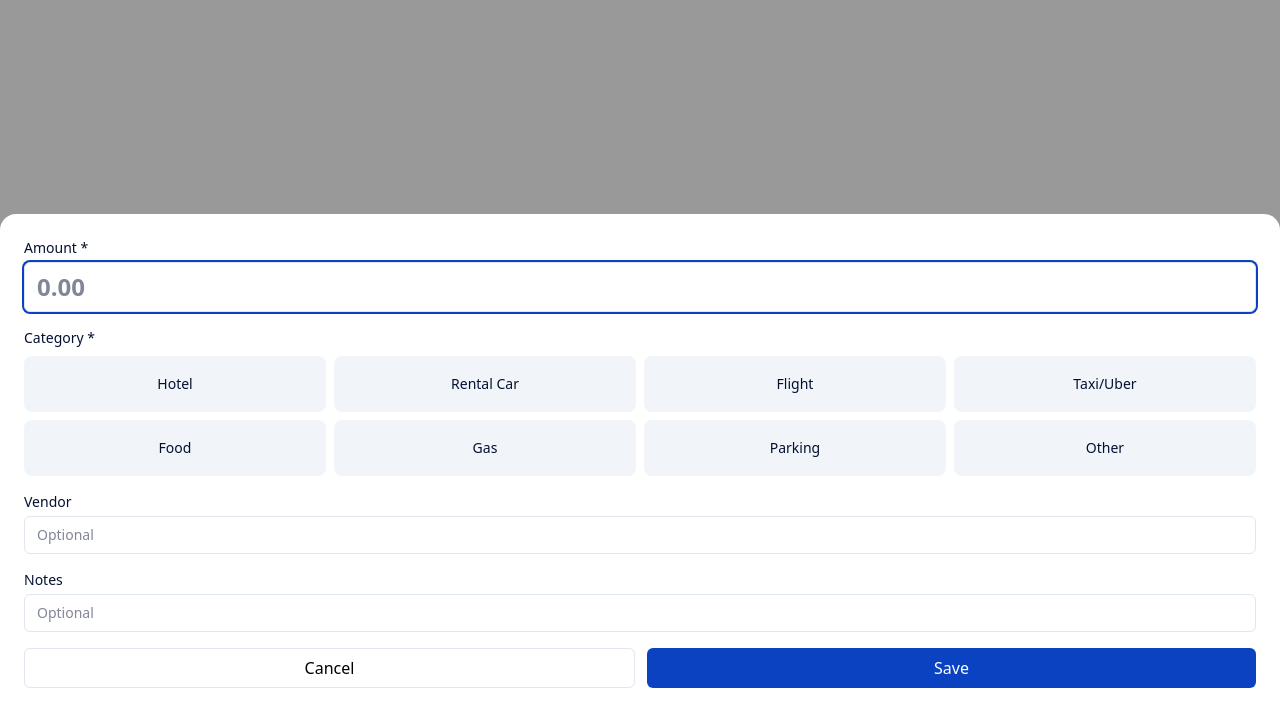
Test: ExpenseSheet › does not save and shows alert when amount is malformed (12.5.0)
This screenshot has width=1280, height=720.
Type "12.5.0" into the field labelled "Amount *". click: (640, 287)
box: [24,262,1256,312]
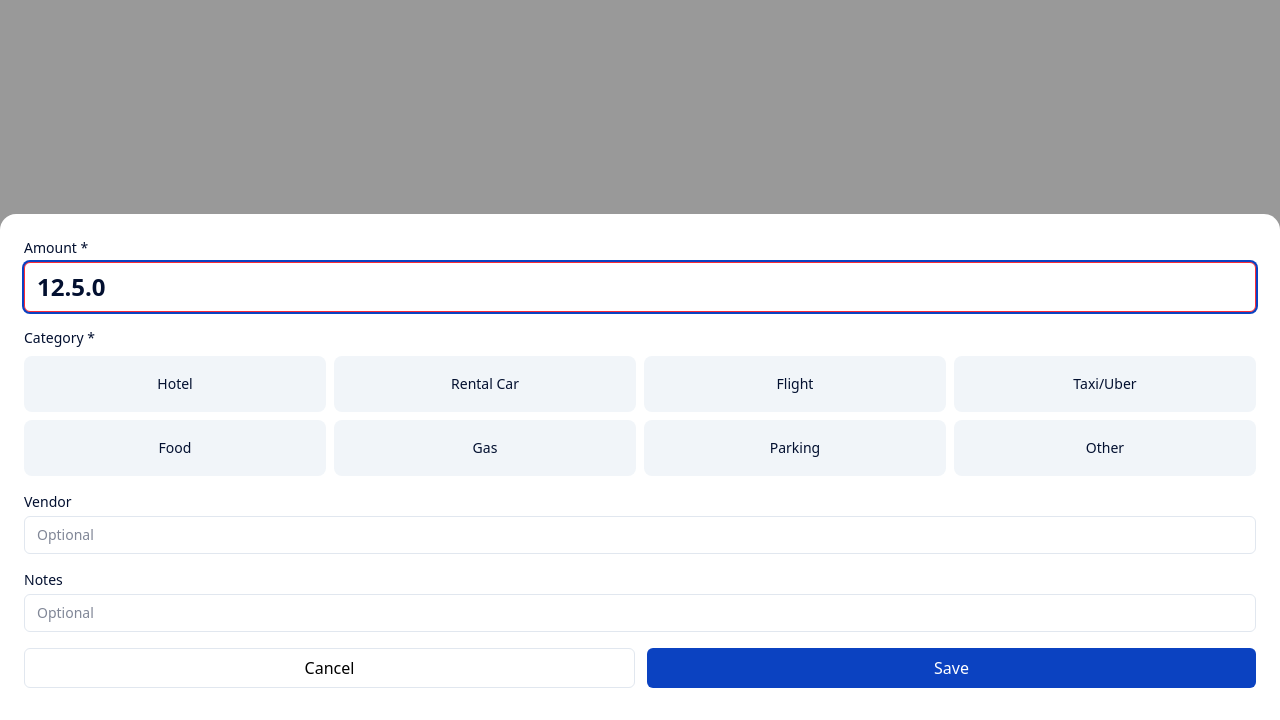
Click the button "Food". click: (175, 448)
box: [24,420,326,476]
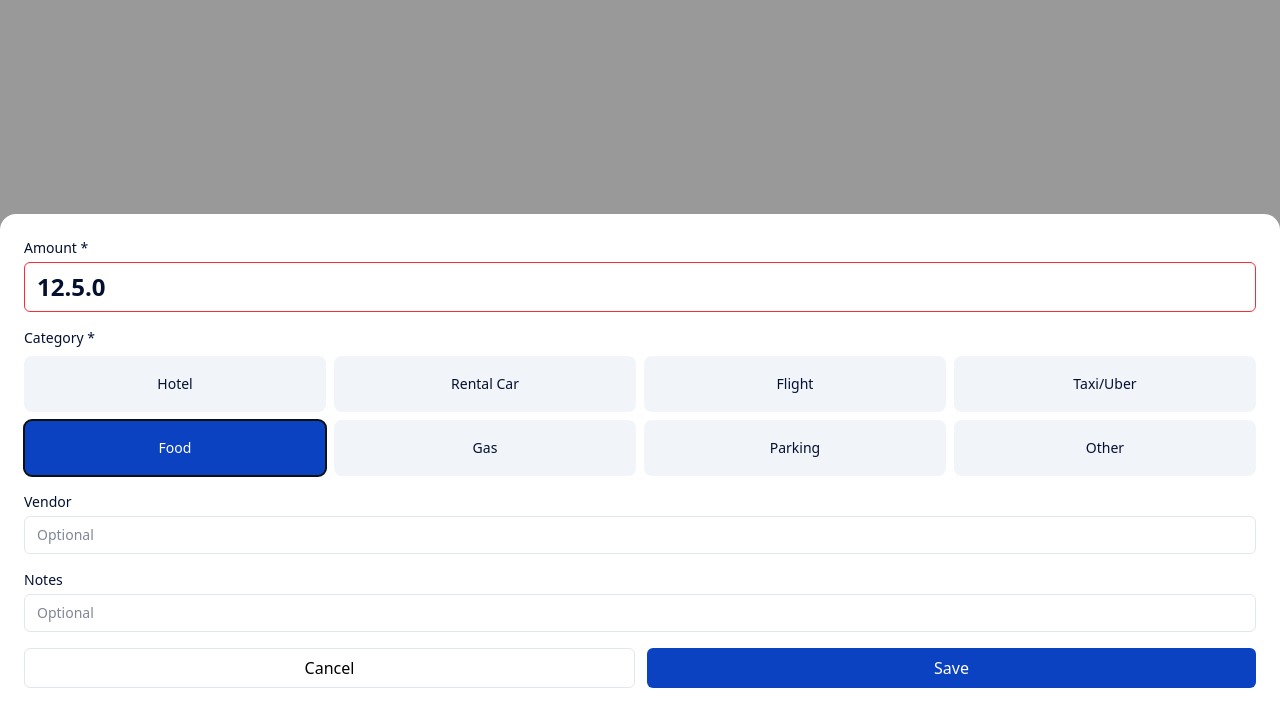
Click the button "Save". click: (952, 668)
box: [647,648,1256,688]
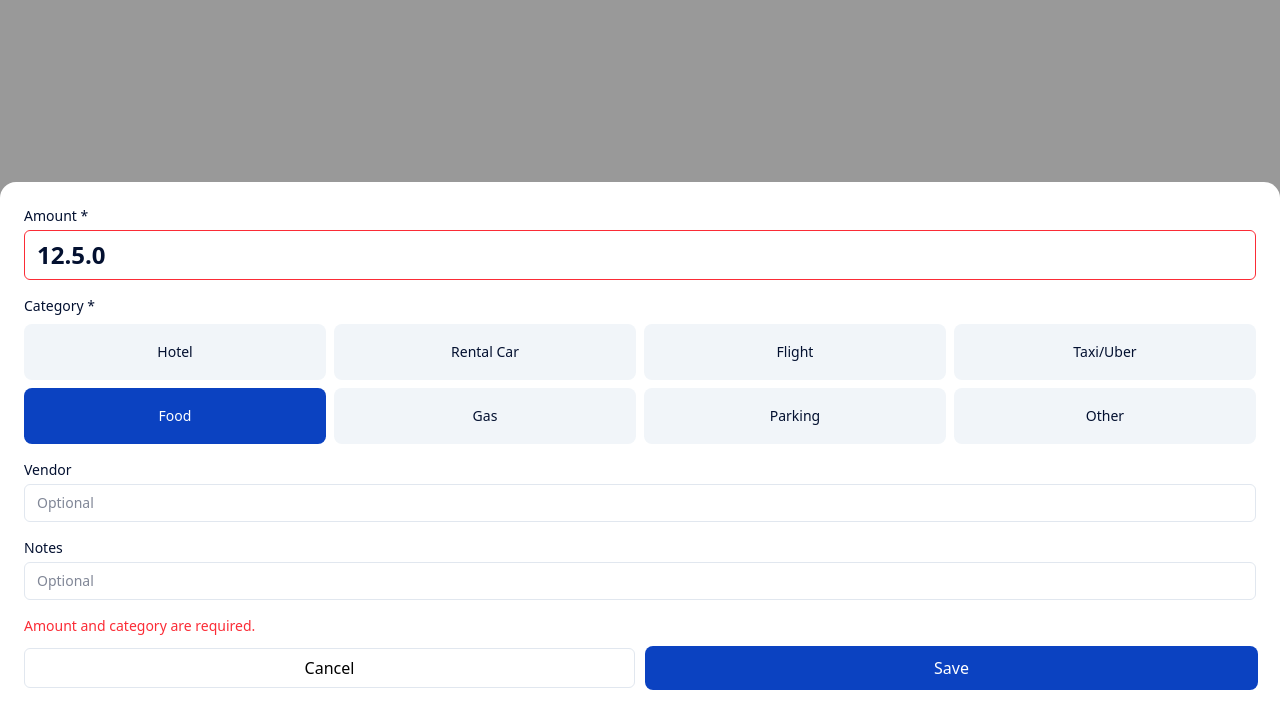
Result: the message "Amount and category are required." is shown at [24,616,255,635]
